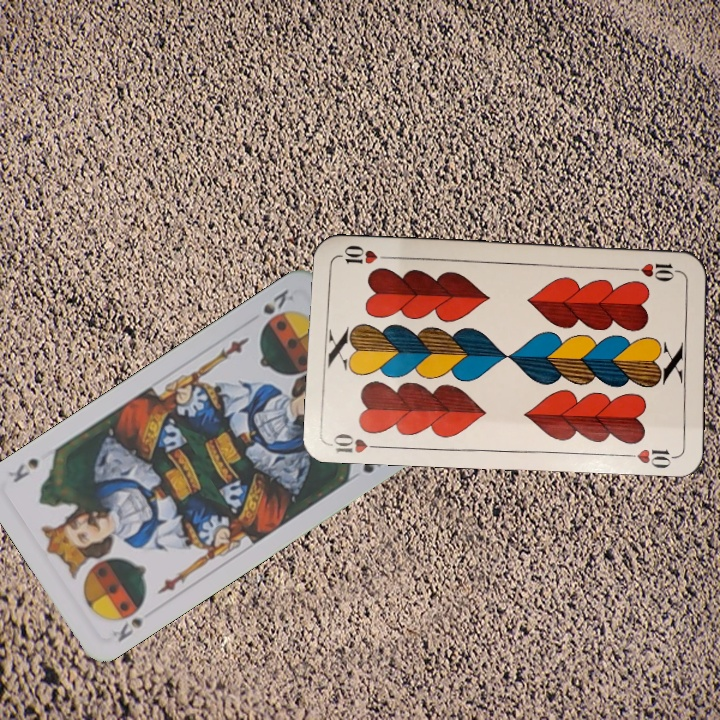H10: (327, 429, 387, 455), (625, 258, 684, 283)
SK: (255, 285, 297, 332), (108, 598, 147, 645)
